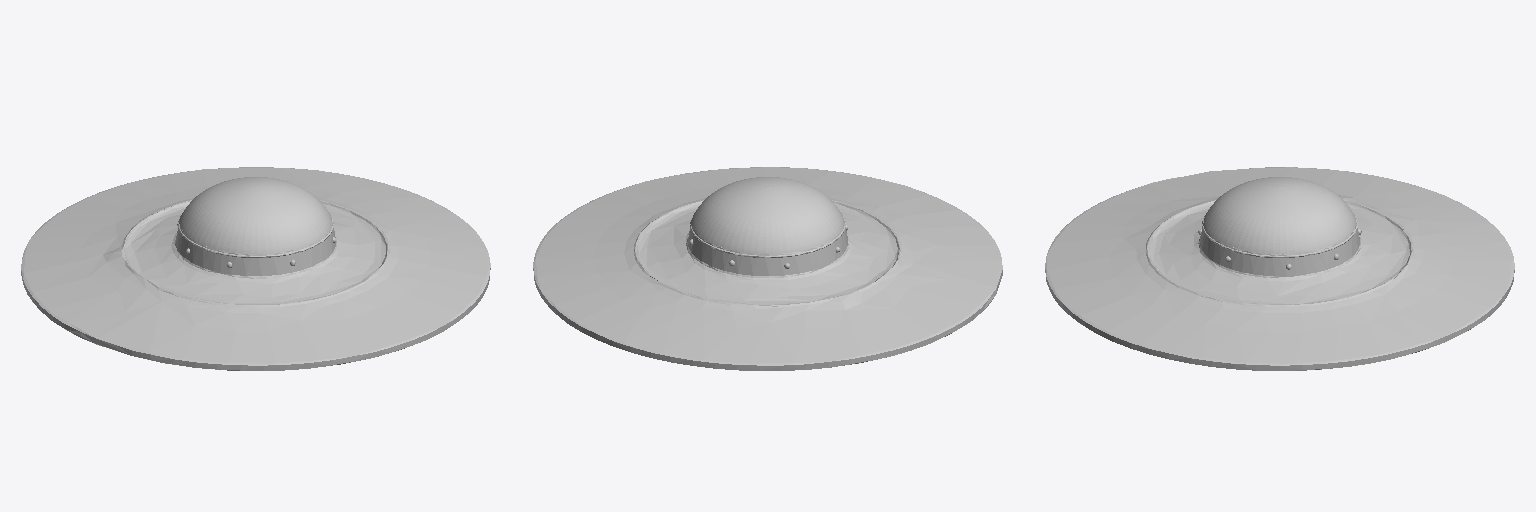
File: ufonew.obj
3 views of the same model, side by side, from view 1: azimuth 30°, elevation 25°; view 2: azimuth 150°, elevation 25°; view 3: azimuth 270°, elevation 25° (orthographic).
Visible parts, largest first — view 1: Sphere, Sphere.002_Sphere.012; view 2: Sphere, Sphere.002_Sphere.012; view 3: Sphere, Sphere.002_Sphere.012.
Boxes of the visible parts, x1,y1,x2,y2 form: Sphere: [21, 167, 490, 370]; Sphere.002_Sphere.012: [180, 177, 331, 253]; Sphere: [533, 167, 1002, 370]; Sphere.002_Sphere.012: [692, 177, 843, 253]; Sphere: [1045, 167, 1514, 370]; Sphere.002_Sphere.012: [1204, 177, 1355, 253].
Size of the model in its own units: 9.86 by 3.19 by 9.86.